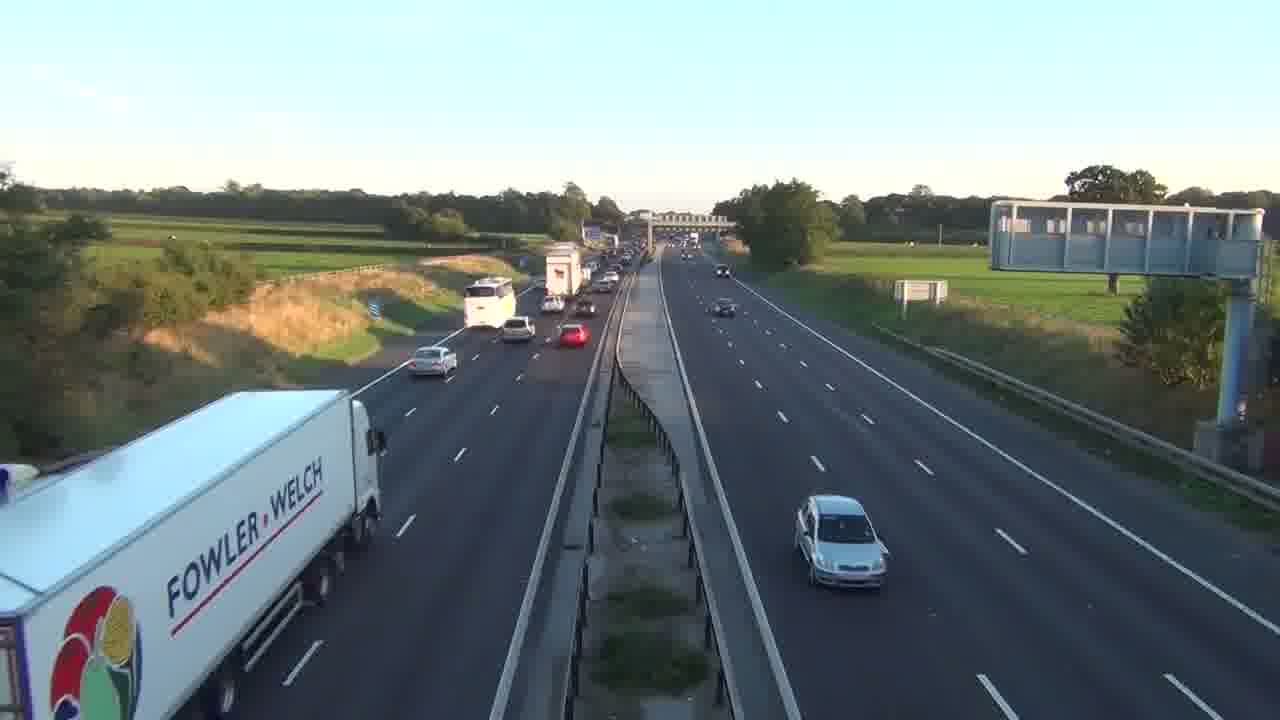car: (793, 493, 893, 592), (406, 345, 458, 381), (557, 322, 591, 348), (501, 316, 535, 342)
truck: (1, 387, 385, 715)
